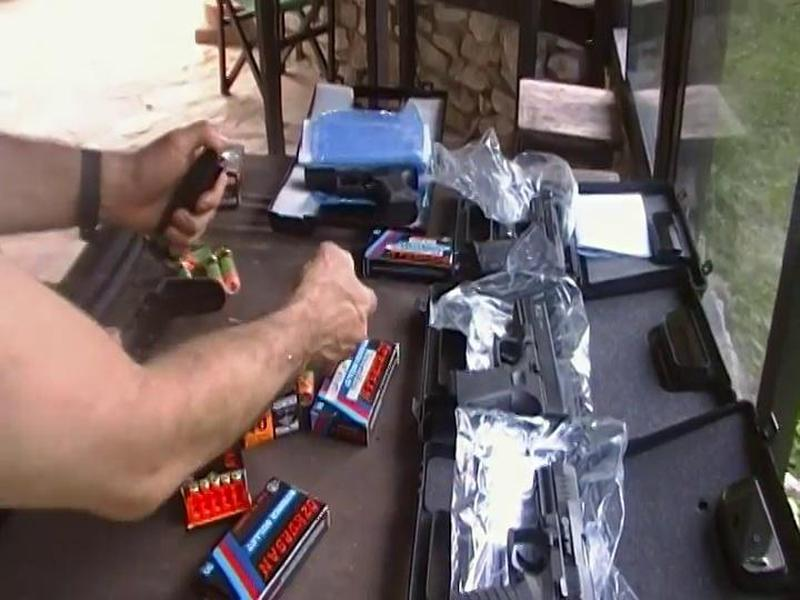Pistola: (429, 286, 588, 441), (436, 460, 608, 600)
